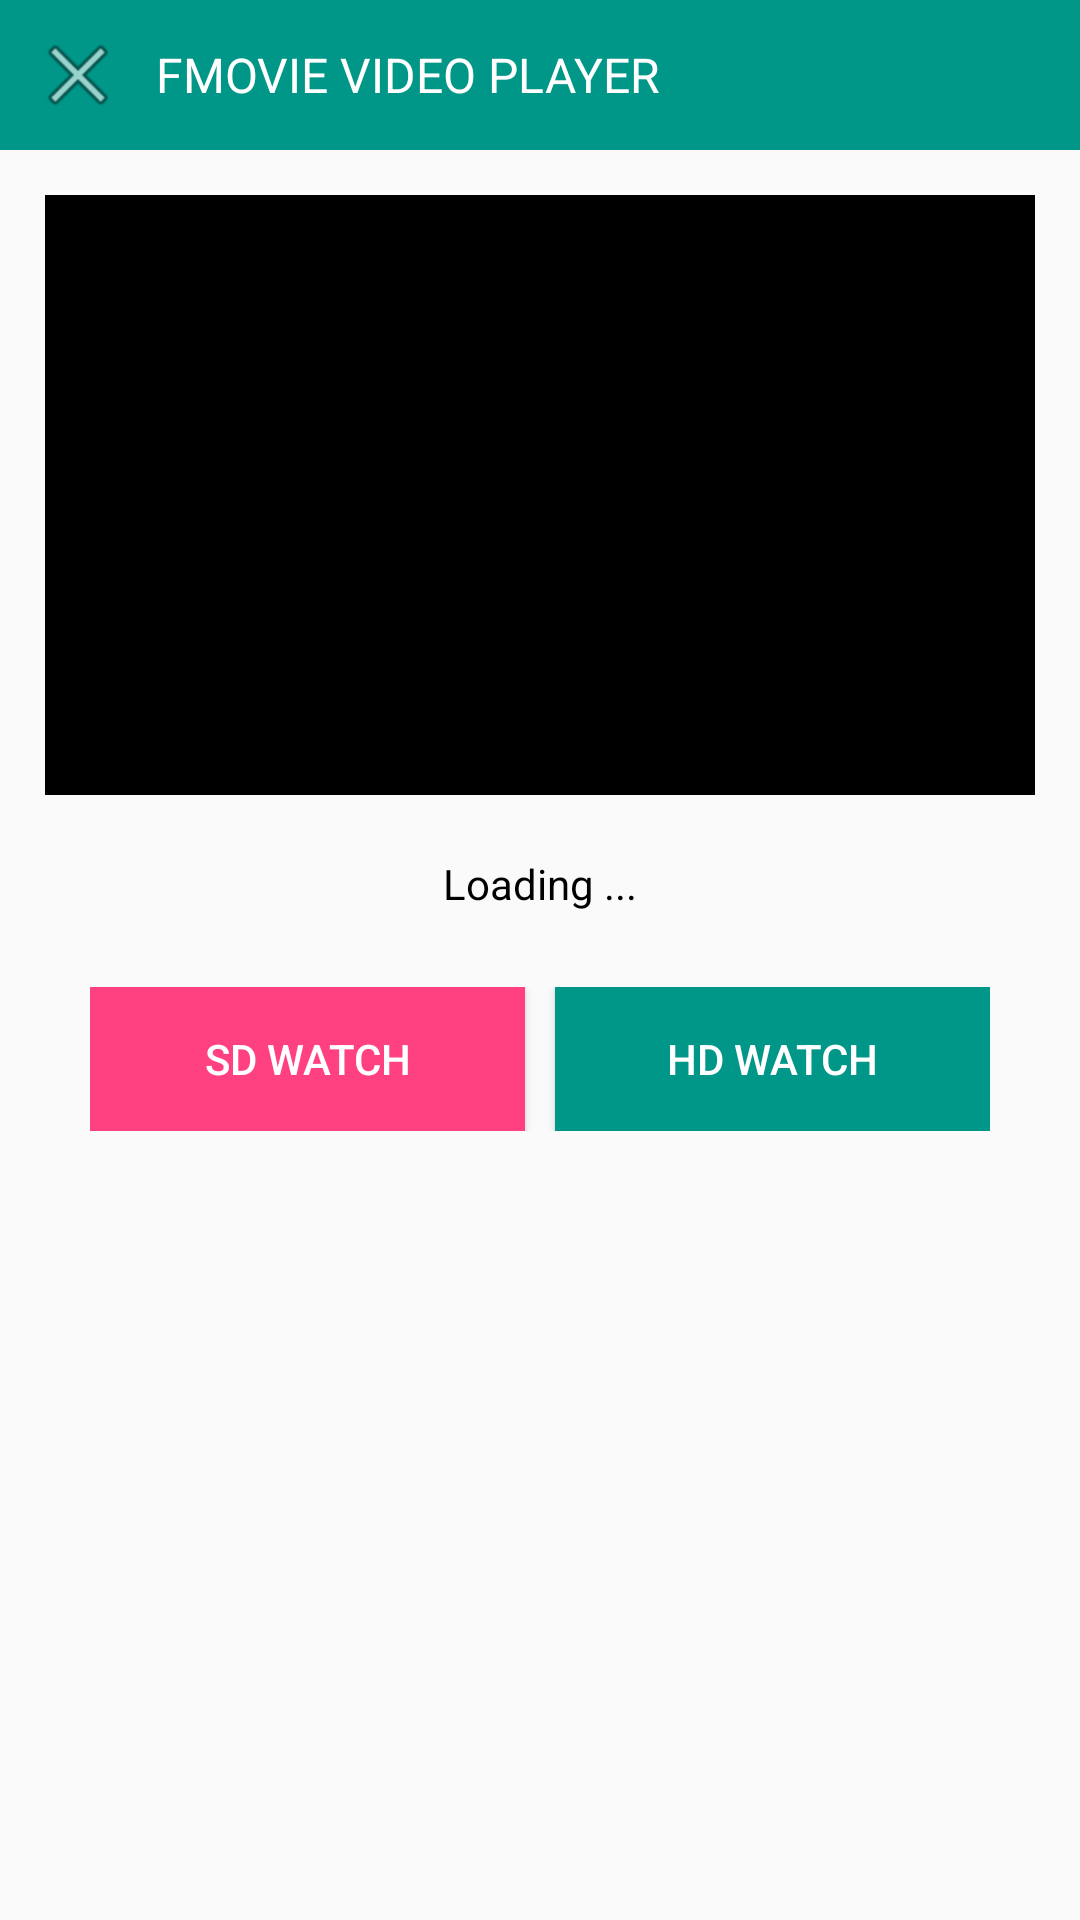

Icon click points for this 1080 x 1920 phone screenshot, format point (x, y):
close clear cancel: point (78, 75)
